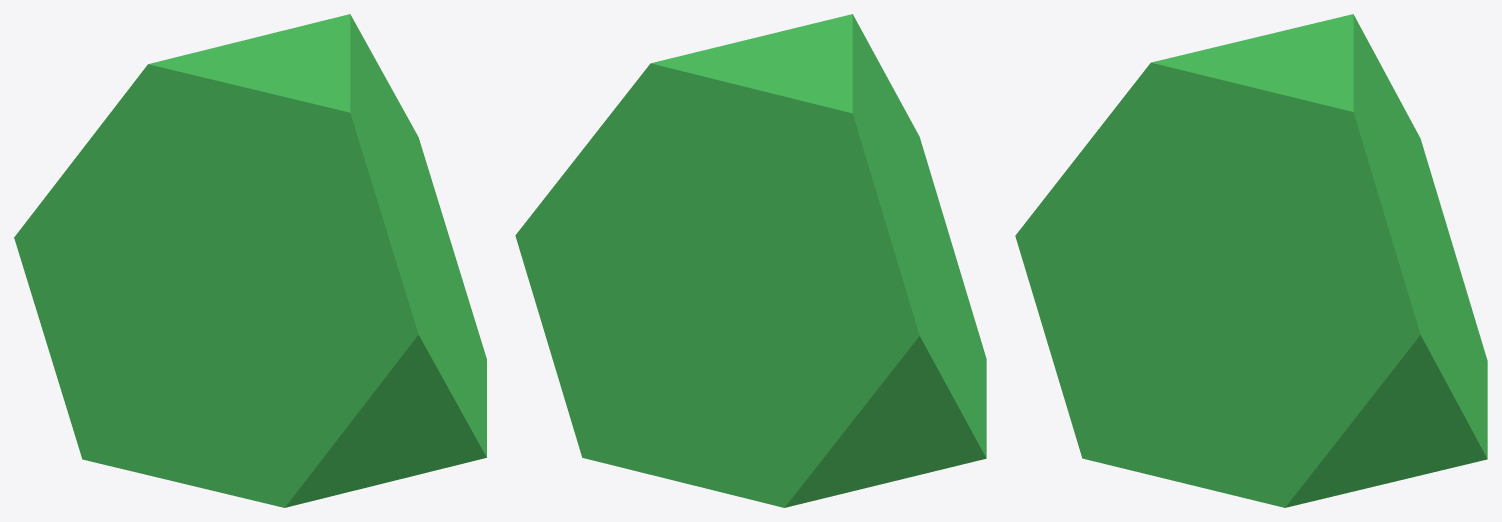
File: fractaltruncatedtetrahedron0.glb
3 views of the same model, side by side, from view 1: azimuth 30°, elevation 25°; view 2: azimuth 150°, elevation 25°; view 3: azimuth 270°, elevation 25° (orthographic).
Bounding box in the file's own units: 10 × 8.18 × 10.07.
